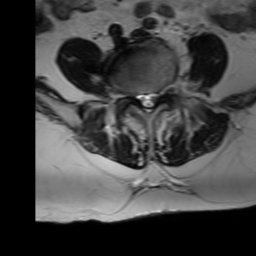CCS_stenosis: (144, 88, 151, 119)
LFS_stenosis: (158, 78, 165, 102)
LLS_normal: (151, 88, 158, 112)
RFS_severe_stenosis: (127, 84, 136, 105)
RLS_stenosis: (136, 86, 144, 111)
